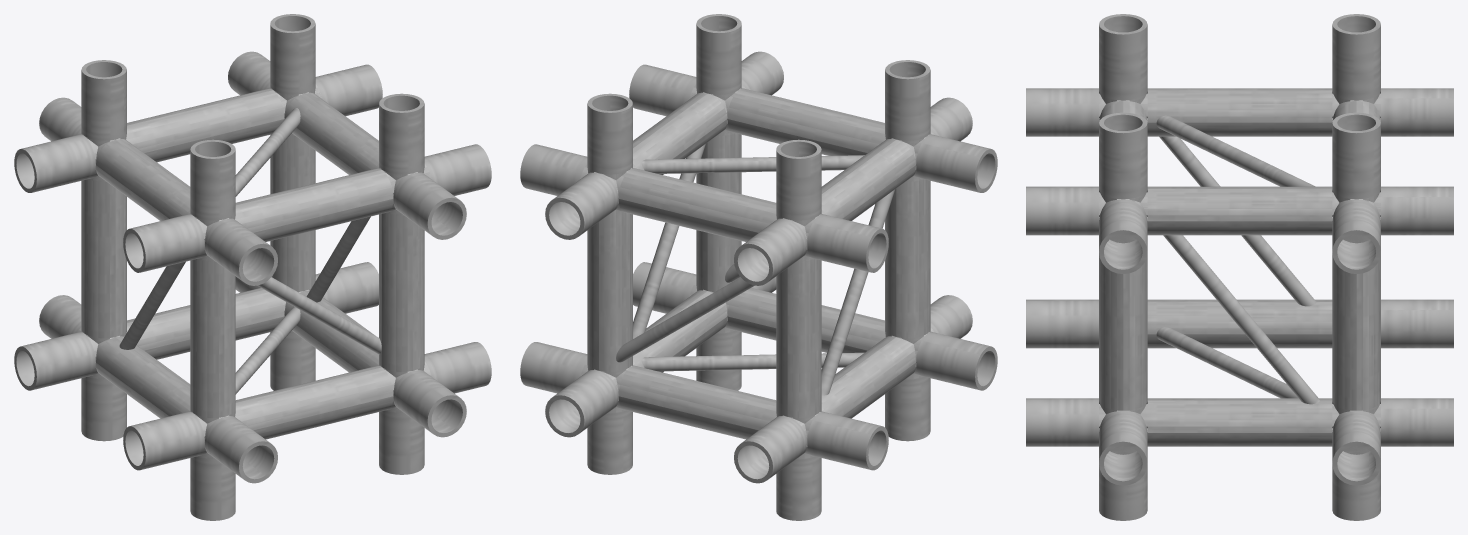
Rendered from Milos_M290_MCLT_Multicube_corner_with_female_connectors-0fb81bc1.glb.
3 views of the same model, side by side, from view 1: azimuth 30°, elevation 25°; view 2: azimuth 150°, elevation 25°; view 3: azimuth 270°, elevation 25° (orthographic). The views are drawn at different scales.
Parts seen in each view (by area): view 1: Geom3D (×31); view 2: Geom3D (×31); view 3: Geom3D (×25).
Part boxes in pixels (x1,y1,x2,y2): Geom3D (×31): (14, 14, 491, 520); Geom3D (×31): (520, 14, 997, 520); Geom3D (×25): (1026, 14, 1453, 520).
Size of the model in its own units: 0.44 by 0.44 by 0.44.
2 materials, 2 textured.
